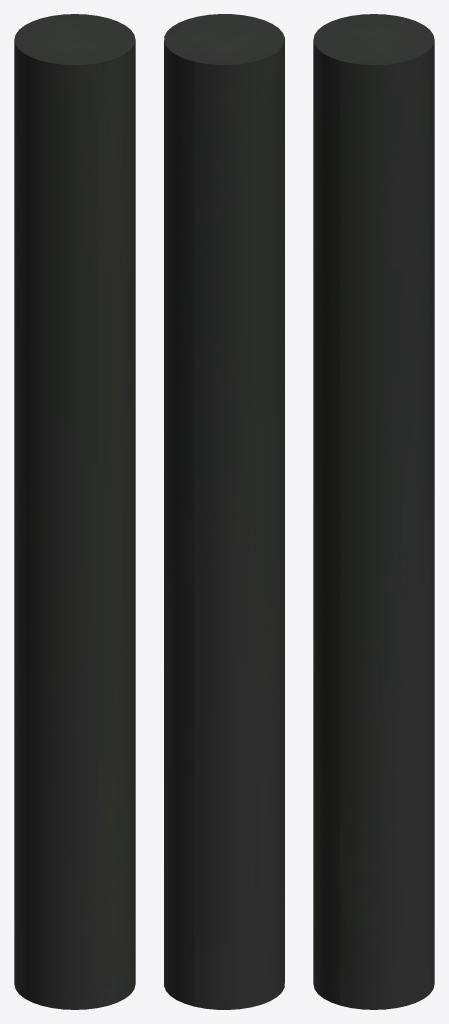
File: seat_pad__pivot_sleeve.glb
The picture shows the model from 3 angles, left to right: view 1: azimuth 90°, elevation 25°; view 2: azimuth 150°, elevation 25°; view 3: azimuth 270°, elevation 25°; orthographic projection.
Parts seen in each view (by area): view 1: world; view 2: world; view 3: world.
Part boxes in pixels (x1=…): world: x1=14, y1=14, x2=135, y2=1009; world: x1=164, y1=14, x2=284, y2=1009; world: x1=313, y1=14, x2=434, y2=1009.
Size of the model in its own units: 0.036 by 0.31 by 0.036.
Materials: 1 (1 with a texture image).
